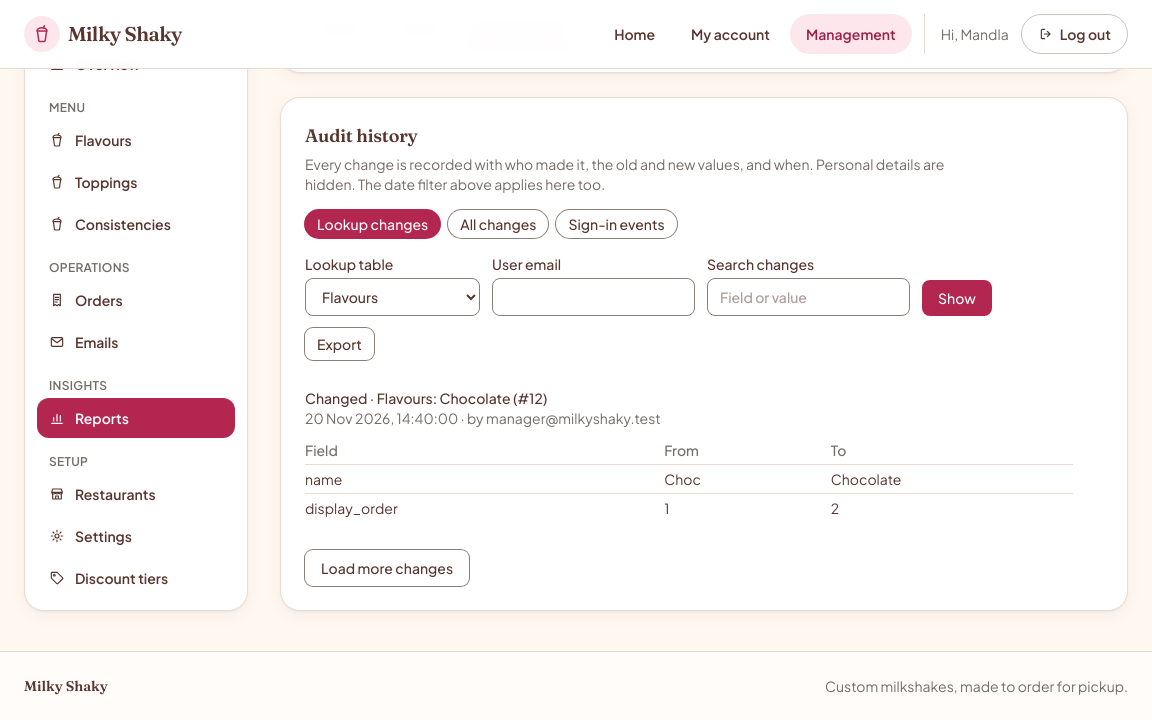
Scenario: Management → Reports → Audit Lookup › loads the next page with the cursor and keeps what is shown
(page scrolled)
Click the button "Load more changes".
click(387, 568)  # box [305,550,469,586]
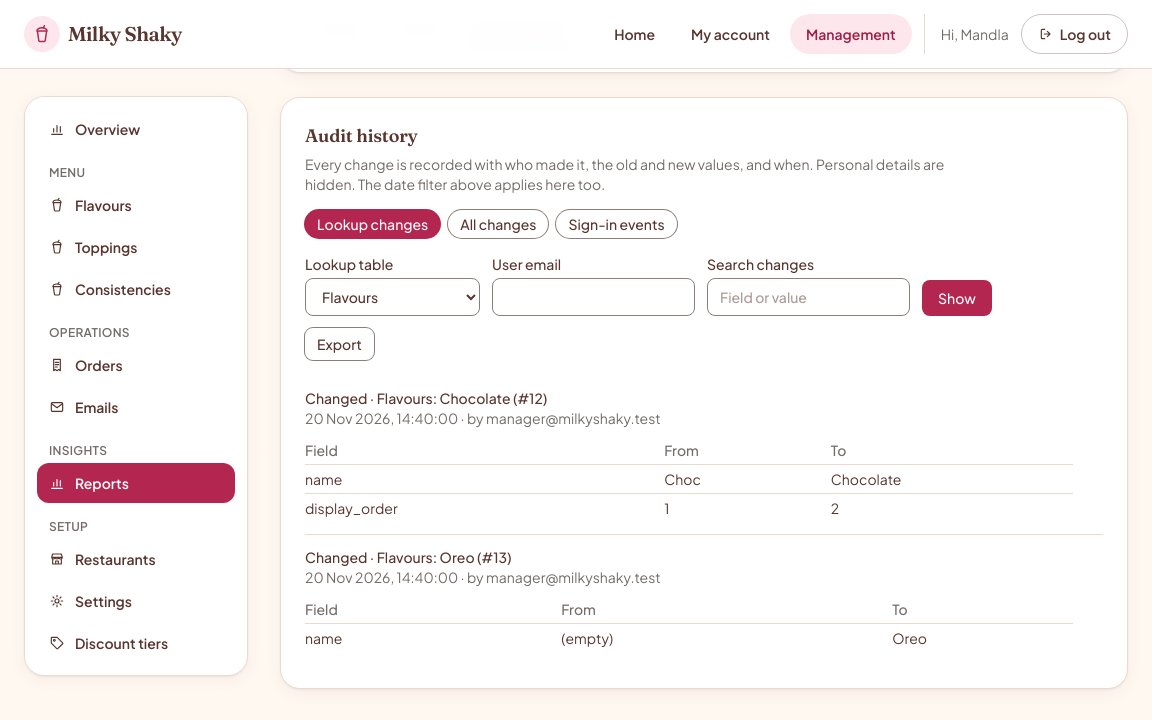
Expected: the text "Changed · Flavours: Chocolate (#12)" is shown, [305,389,547,407]
Result: the text "Changed · Flavours: Oreo (#13)" is shown at [305,548,512,566]
Result: the button "Load more changes" is gone
